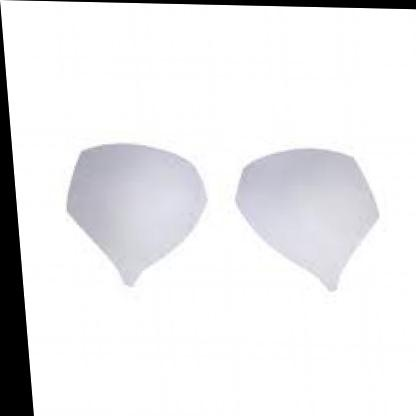trash: (236, 149, 377, 289), (67, 144, 206, 285)
